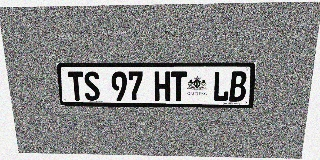7: (127, 71, 143, 101)
9: (111, 71, 128, 101)
B: (229, 71, 247, 102)
H: (154, 71, 170, 101)
L: (212, 71, 230, 101)
S: (83, 71, 100, 101)
T: (68, 71, 85, 101), (171, 71, 187, 101)
